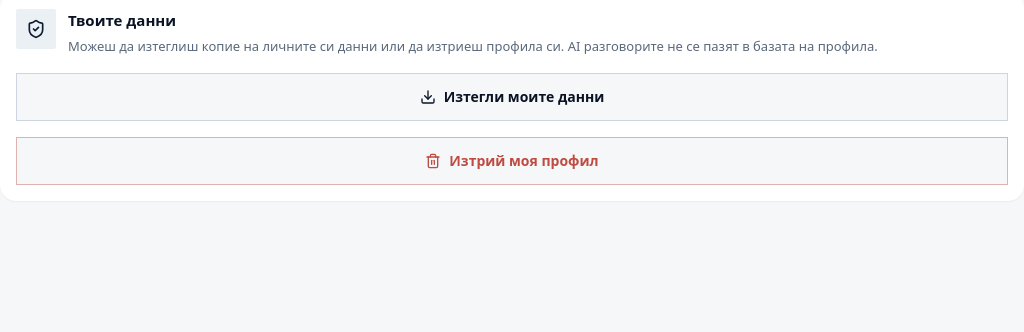
Test: GdprSettings › prepares an authenticated JSON export before offering the file download
This screenshot has width=1024, height=332.
What coordinates should you click on to do the following:
click the button "Изтегли моите данни"
I would click on:
 (512, 97)
Its box is [16,73,1008,121].
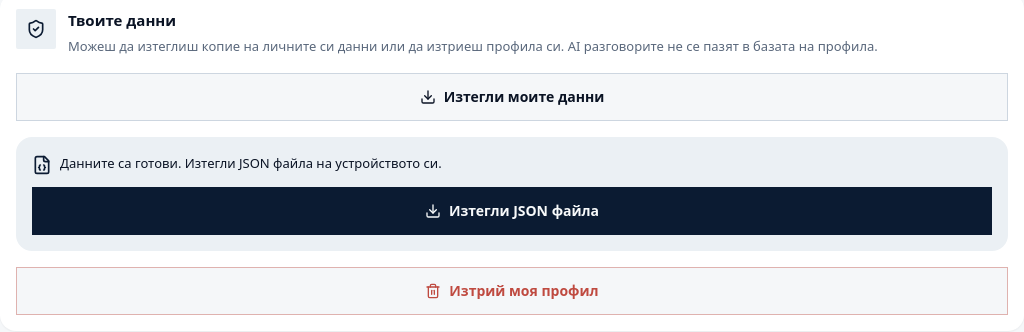
Result: the button "Изтегли JSON файла" is enabled at [32,187,992,235]
